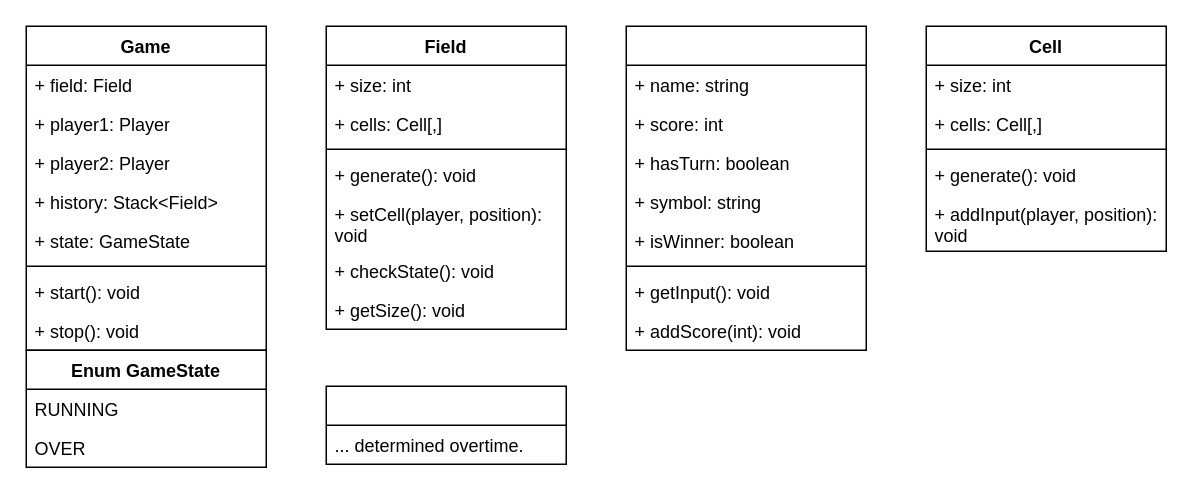
Image size: 1193x498. Some labels were removed from this diagram. The shapes that lost their labels are listed below. From the top down, each one's box as (x1, y1, x2, y2) in pixels, then its label:
(625, 25, 866, 350): Player
(325, 385, 566, 464): Utility
